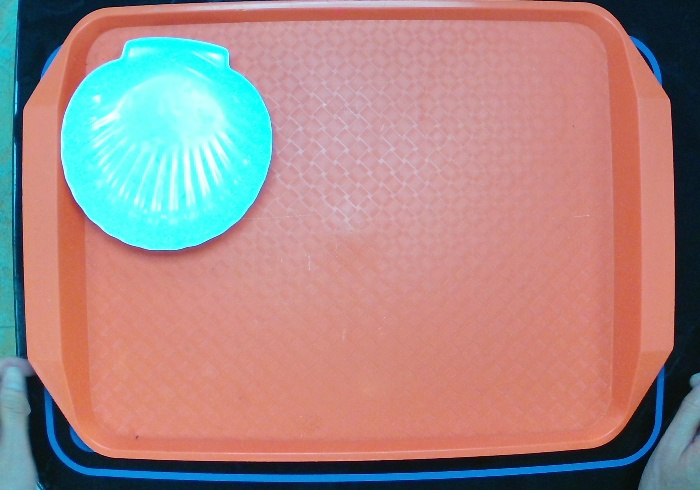RJxy-Bei_Ke_Wan: (57, 33, 277, 252)
